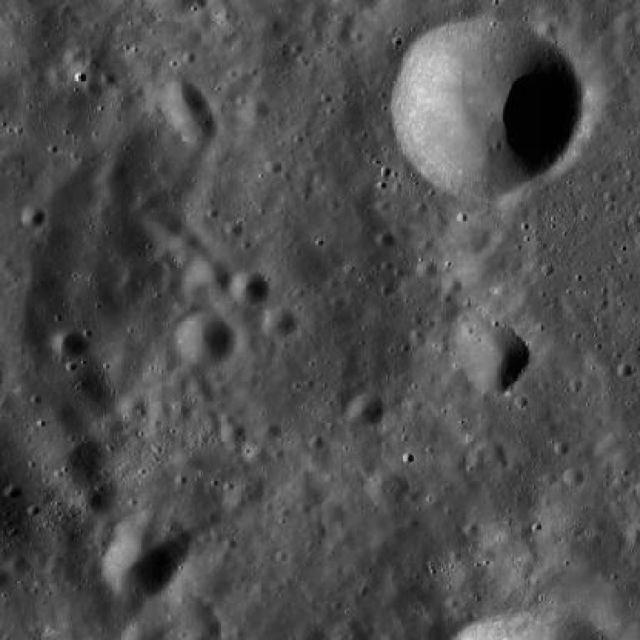crater: (388, 15, 580, 194), (102, 512, 190, 594), (259, 230, 332, 298), (461, 325, 530, 390), (0, 0, 65, 69), (43, 430, 106, 490), (176, 312, 236, 368), (38, 158, 96, 212), (212, 284, 266, 333), (64, 367, 113, 413), (160, 81, 209, 125), (189, 256, 231, 295), (366, 466, 408, 504), (178, 107, 218, 144), (233, 270, 272, 307), (195, 568, 234, 604), (448, 217, 487, 252), (282, 474, 320, 509), (144, 208, 182, 242), (75, 482, 112, 516), (348, 392, 382, 426), (262, 305, 296, 338), (254, 8, 288, 40), (51, 327, 84, 358), (118, 393, 151, 422), (151, 343, 184, 372), (236, 474, 267, 503), (168, 227, 198, 255), (174, 446, 203, 474), (437, 448, 466, 476), (240, 95, 268, 122), (320, 504, 348, 530), (98, 156, 126, 182), (138, 187, 166, 213), (223, 486, 249, 511), (236, 328, 262, 352), (116, 276, 142, 299), (420, 617, 446, 640), (185, 276, 210, 299), (220, 422, 246, 444), (20, 206, 46, 228), (614, 12, 638, 34), (246, 444, 269, 466), (190, 376, 212, 398), (456, 473, 478, 493), (564, 466, 586, 486), (536, 20, 558, 40), (416, 260, 438, 280), (330, 23, 352, 43), (46, 66, 68, 86), (224, 218, 244, 238), (260, 423, 280, 442), (442, 275, 462, 294), (386, 526, 406, 545), (82, 77, 102, 96), (170, 372, 190, 390), (483, 436, 503, 454), (376, 230, 396, 248), (152, 400, 171, 418), (60, 44, 80, 61), (586, 516, 603, 533), (264, 158, 282, 174), (100, 70, 117, 86), (347, 627, 367, 640), (8, 555, 24, 571), (174, 404, 191, 419)
